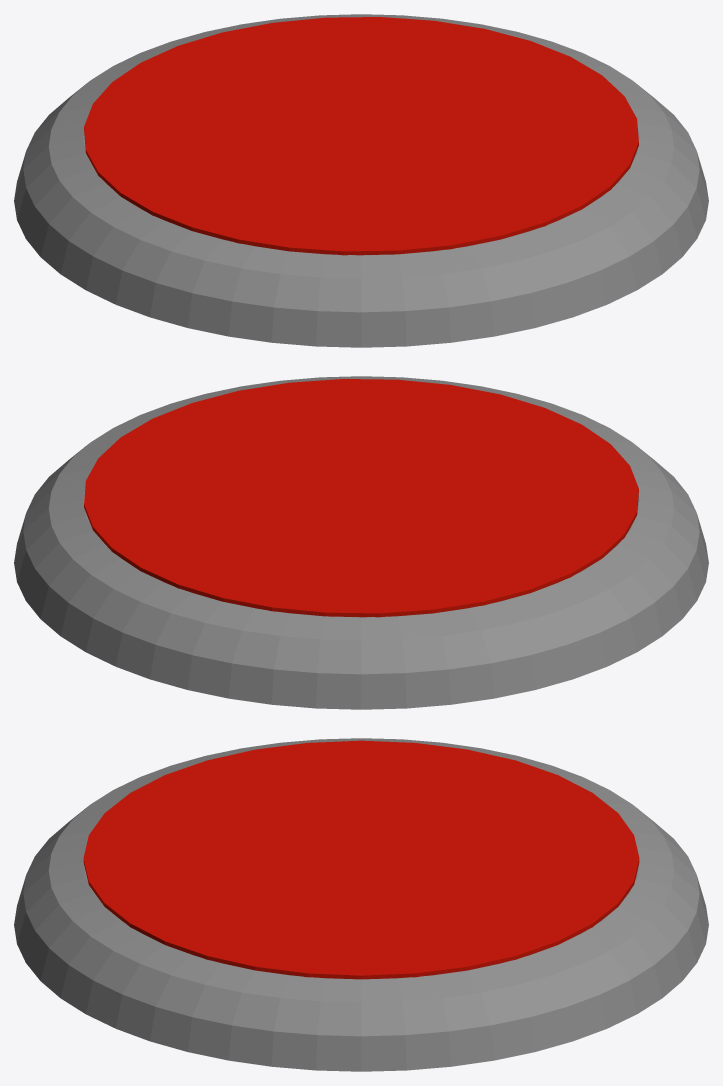
File: ButtonDown.fbx
3 renders of one model, top to bottom at view 1: azimuth 30°, elevation 25°; view 2: azimuth 150°, elevation 25°; view 3: azimuth 270°, elevation 25°, orthographic.
Visible parts, largest first — view 1: Cylinder, Torus; view 2: Cylinder, Torus; view 3: Cylinder, Torus.
Part boxes in pixels (x1,y1,x2,y2): Cylinder: [84, 17, 638, 255]; Torus: [14, 14, 708, 347]; Cylinder: [84, 379, 638, 617]; Torus: [14, 376, 708, 709]; Cylinder: [83, 740, 639, 979]; Torus: [14, 738, 708, 1071].
Size of the model in its own units: 2.5 by 0.265 by 2.5.
